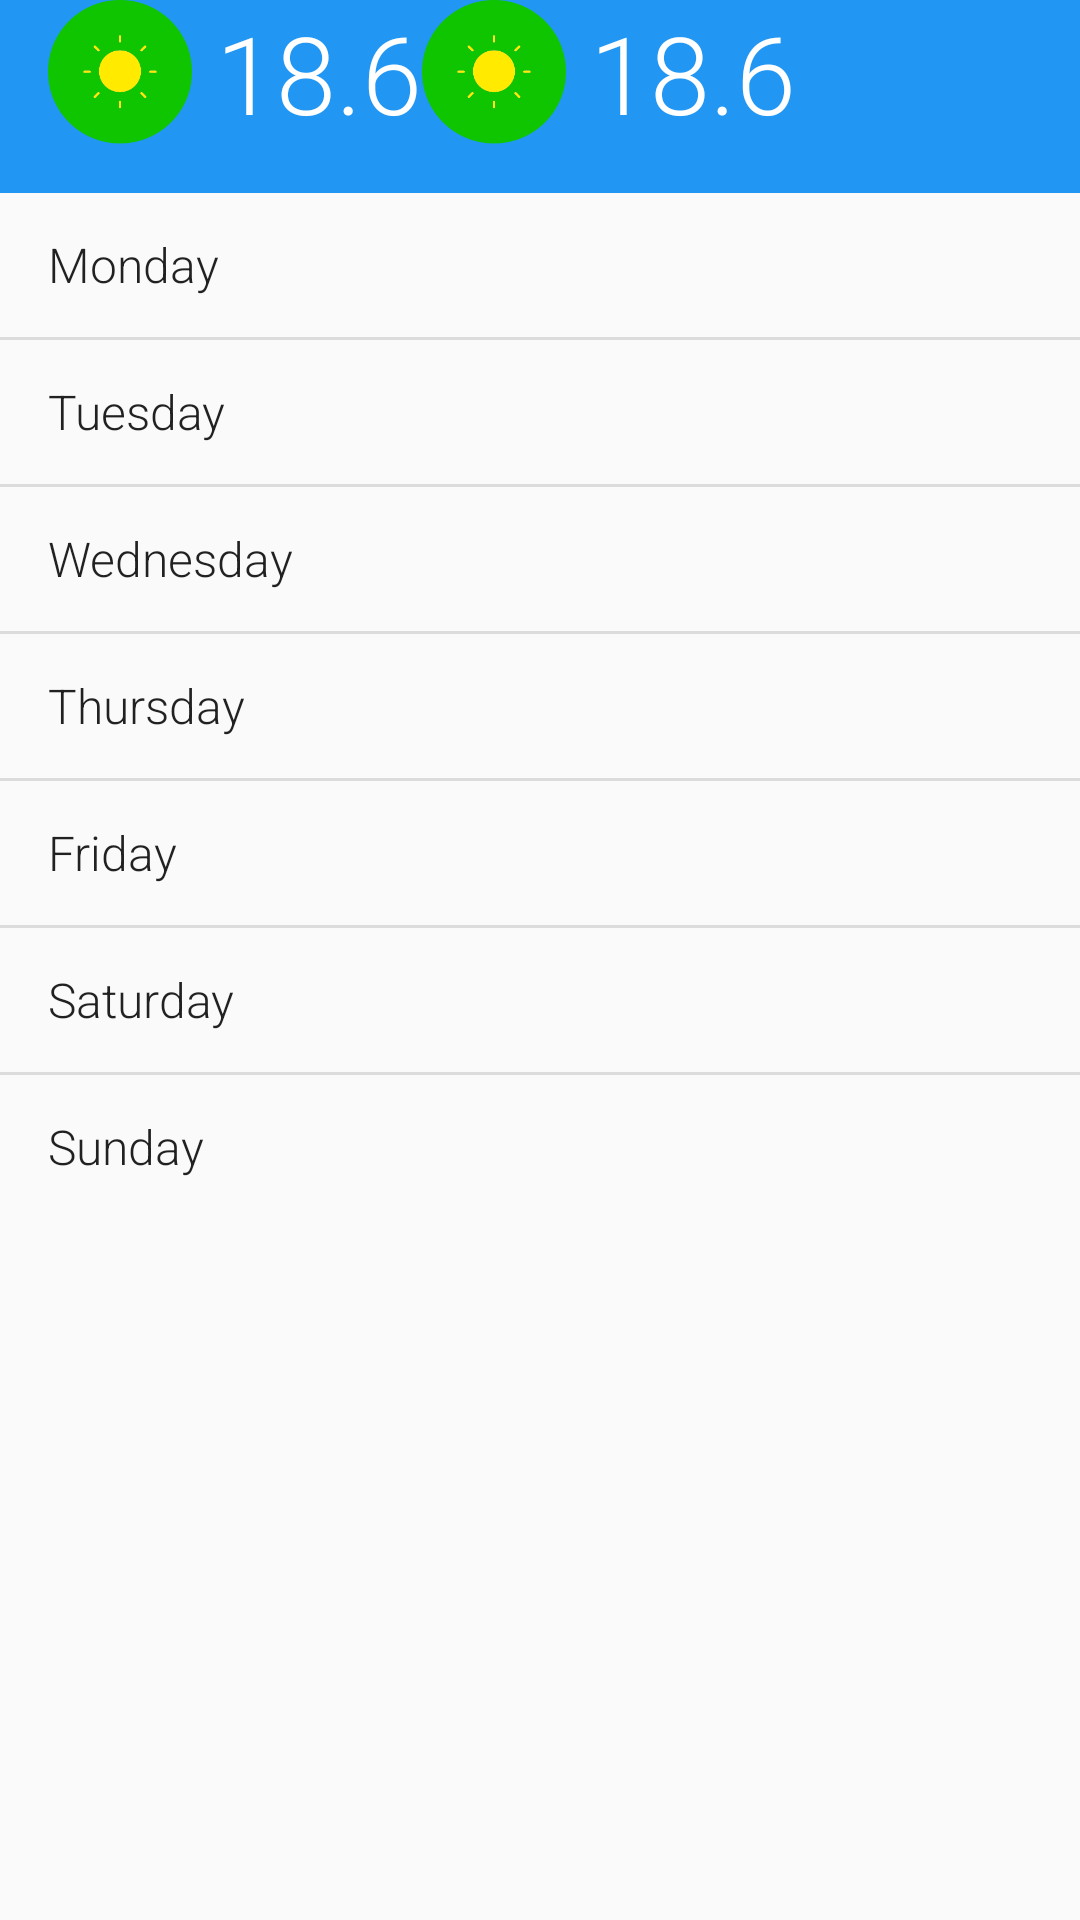

Icon bounding boxes for this 1080×1920 phone screenshot, format (x1=x1, y1=y1, x2=x2, y2=y2):
sun: (x1=48, y1=0, x2=192, y2=144), (x1=422, y1=0, x2=566, y2=144)
